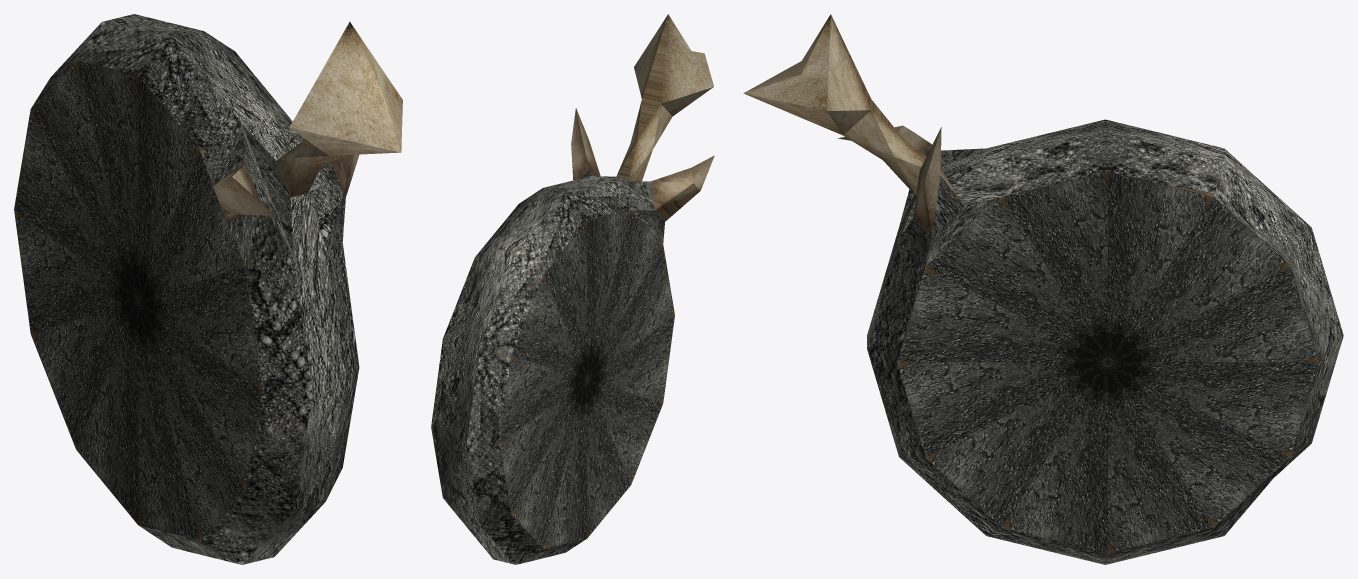
File: mm9_deco_switch03_wheel.glb
3 renders of one model, left to right at view 1: azimuth 30°, elevation 25°; view 2: azimuth 150°, elevation 25°; view 3: azimuth 270°, elevation 25°, orthographic. The views are drawn at different scales.
Visible parts, largest first — view 1: Switch03; view 2: Switch03; view 3: Switch03.
Boxes of the visible parts, x1=… form: Switch03: x1=14, y1=14, x2=402, y2=564; Switch03: x1=431, y1=14, x2=714, y2=564; Switch03: x1=743, y1=14, x2=1343, y2=564.
Size of the model in its own units: 0.3685 by 1.42 by 1.42.
1 material, 1 textured.
